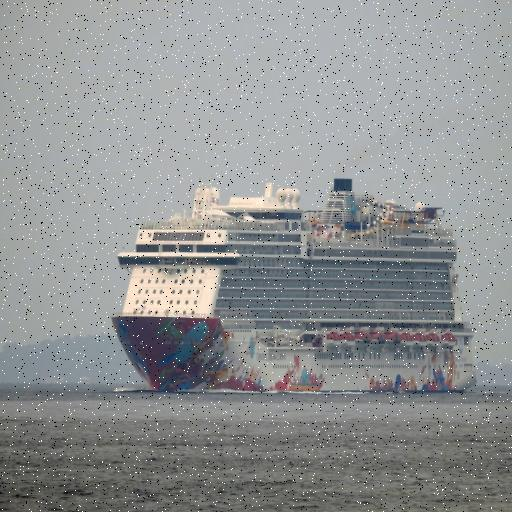cruises: (109, 174, 480, 402)
